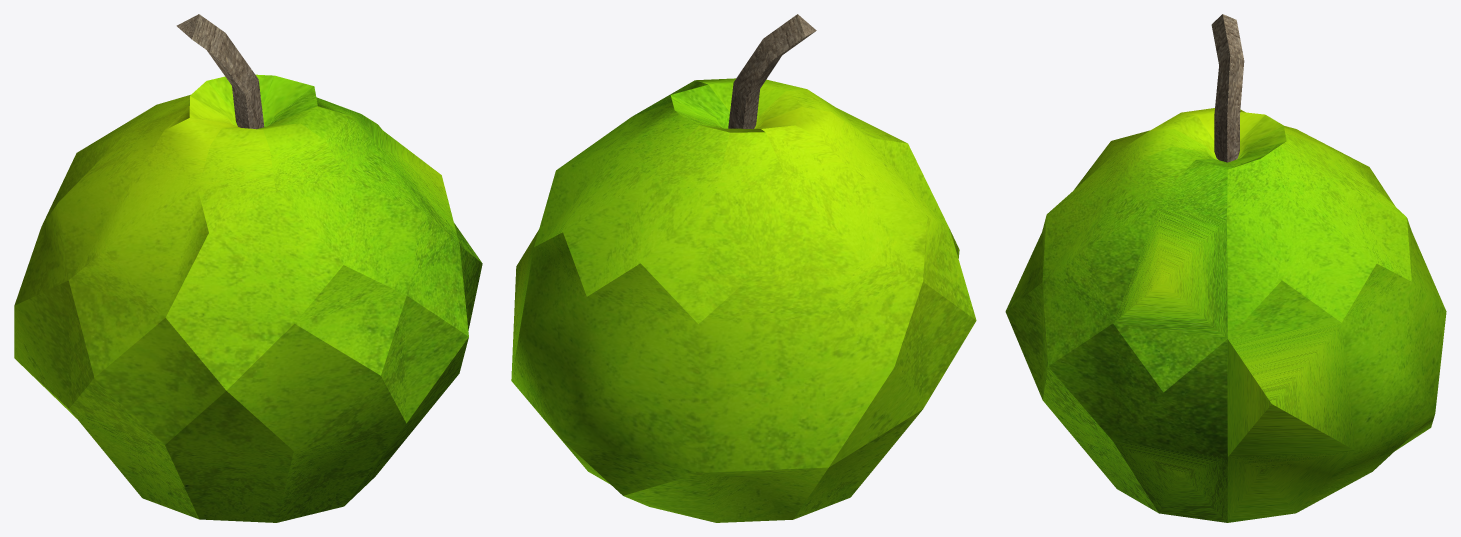
Rendered from Apple.fbx.
The picture shows the model from 3 angles, left to right: view 1: azimuth 30°, elevation 25°; view 2: azimuth 150°, elevation 25°; view 3: azimuth 270°, elevation 25°; orthographic projection. The views are drawn at different scales.
Visible parts, largest first — view 1: Сфера, Цилиндр; view 2: Сфера, Цилиндр; view 3: Сфера, Цилиндр.
Boxes of the visible parts, <box> form: Сфера: <box>14,74,482,522</box>; Цилиндр: <box>176,14,264,129</box>; Сфера: <box>511,78,976,522</box>; Цилиндр: <box>728,14,816,128</box>; Сфера: <box>1005,108,1446,522</box>; Цилиндр: <box>1211,14,1244,162</box>.
Bounding box in the file's own units: 219 × 269 × 227.
2 materials, 2 textured.
